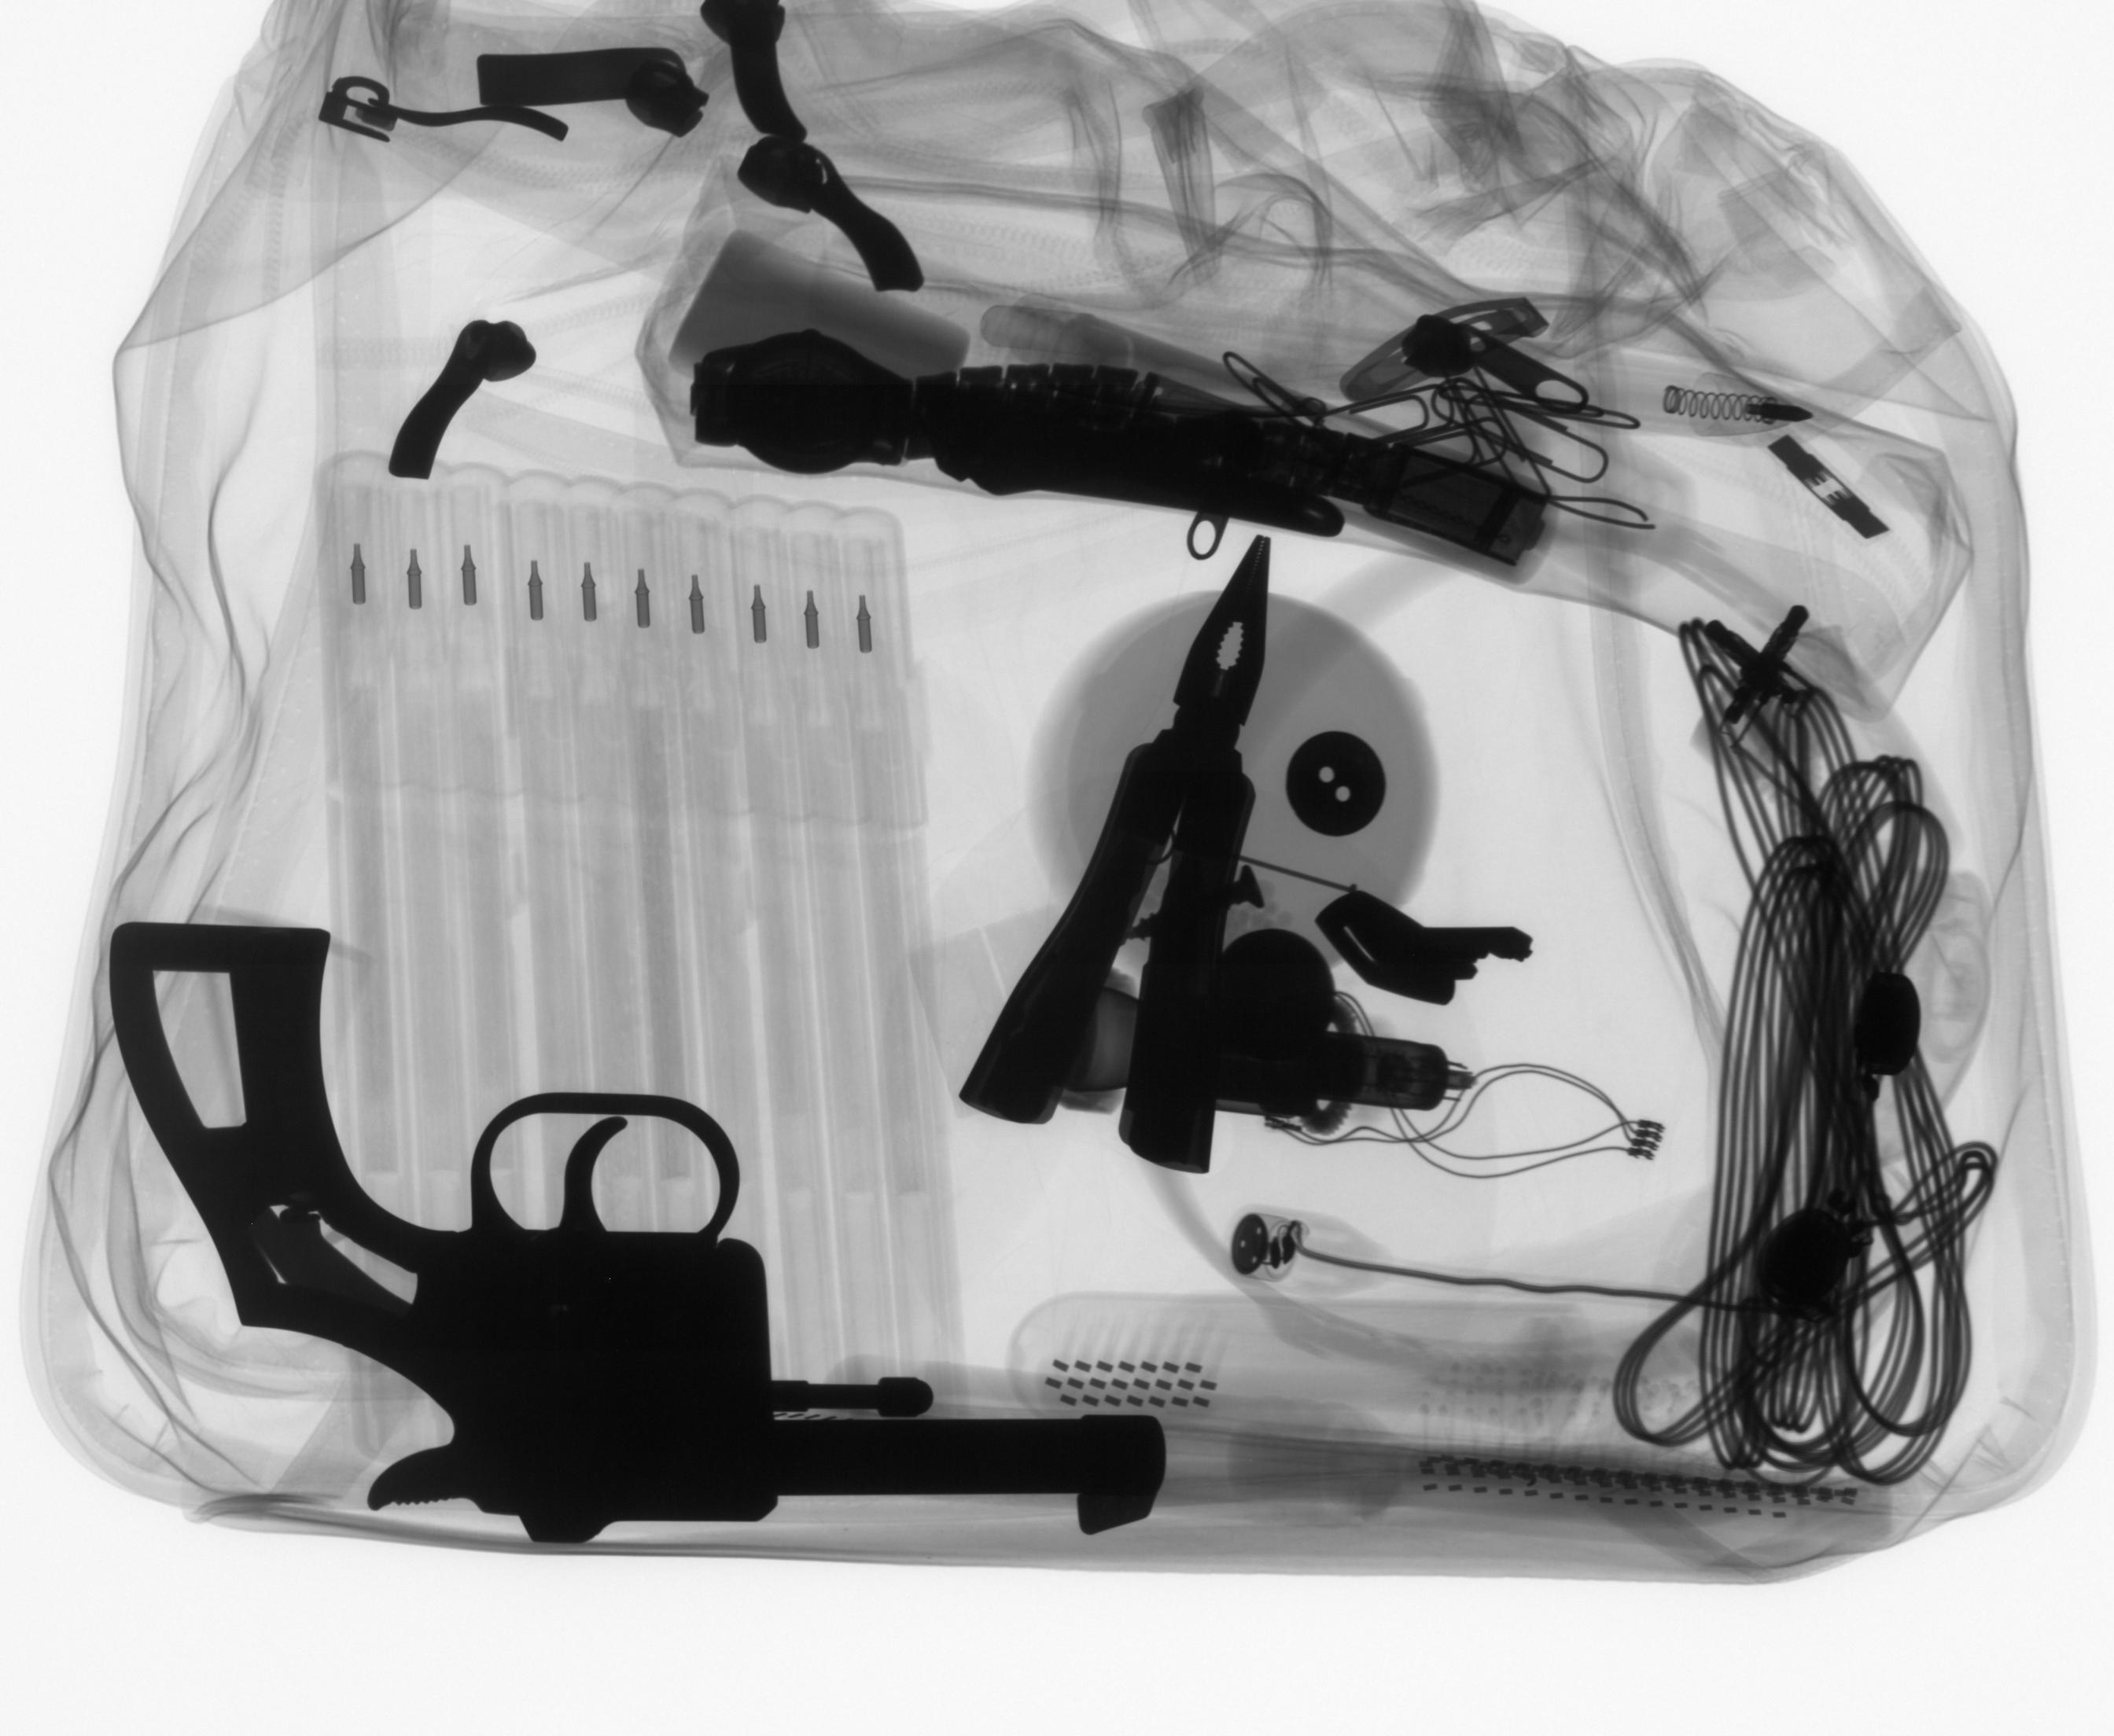Handgun: (100, 916, 1180, 1550)
